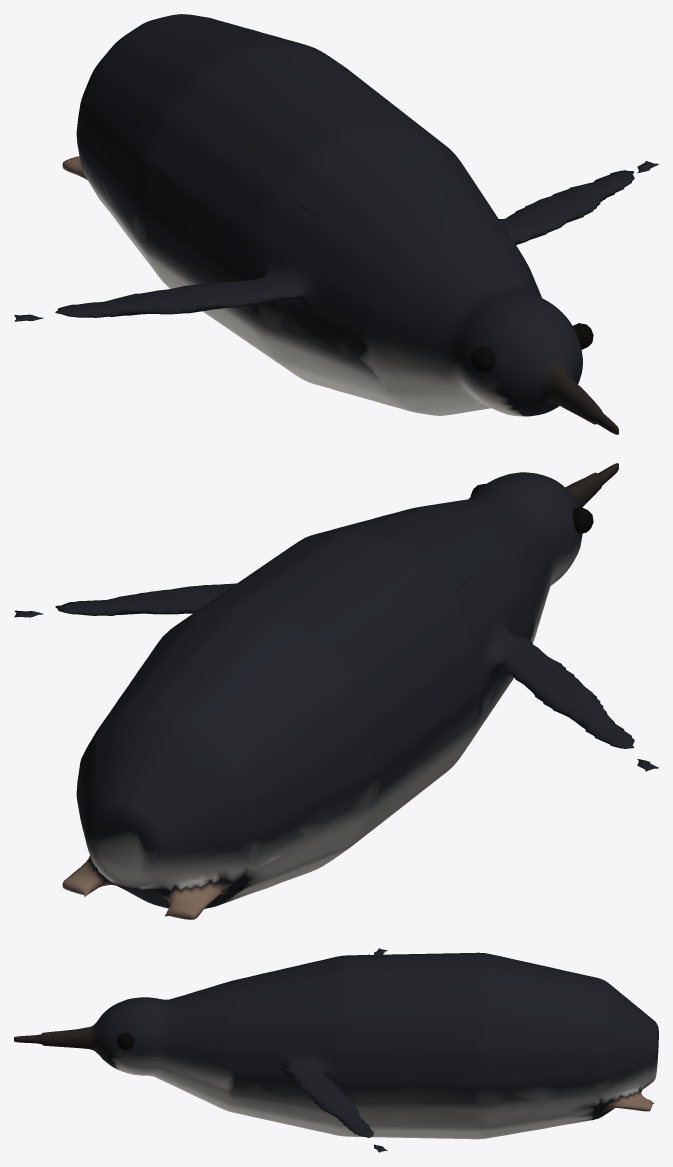
Rendered from KumimanuBiceae.fbx.
3 renders of one model, top to bottom at view 1: azimuth 30°, elevation 25°; view 2: azimuth 150°, elevation 25°; view 3: azimuth 270°, elevation 25°, orthographic. The views are drawn at different scales.
Visible parts, largest first — view 1: KumimanuBiceae; view 2: KumimanuBiceae; view 3: KumimanuBiceae.
Part boxes in pixels (x1,y1,x2,y2): KumimanuBiceae: (14,14,658,434); KumimanuBiceae: (14,463,658,919); KumimanuBiceae: (14,948,658,1152).
Size of the model in its own units: 1.37 by 0.5309 by 1.83.
